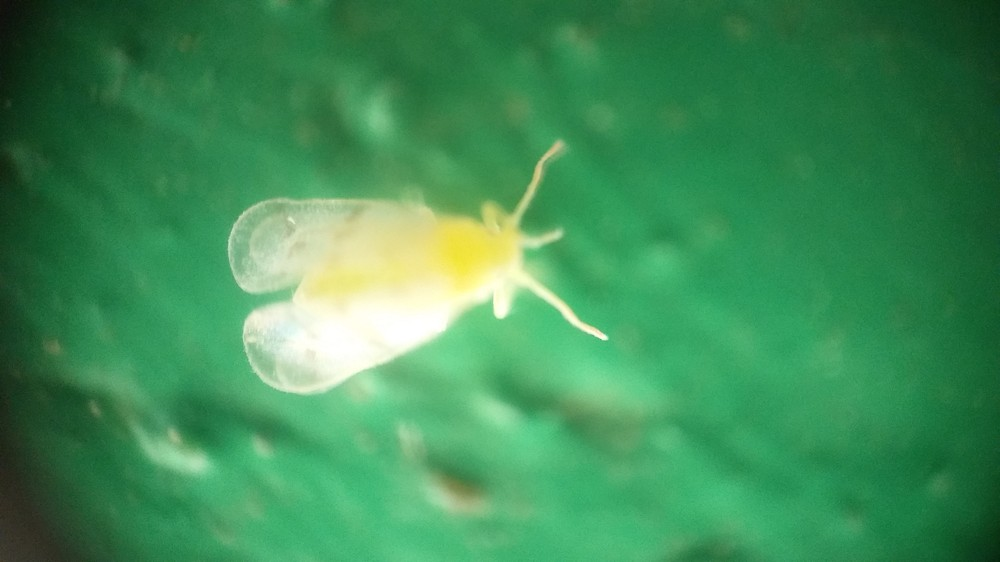Mosca Blanca: (222, 133, 624, 409)
